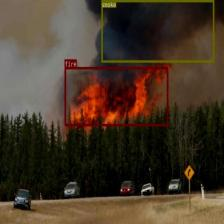fire: (64, 66, 168, 125)
smoke: (101, 0, 213, 62)
